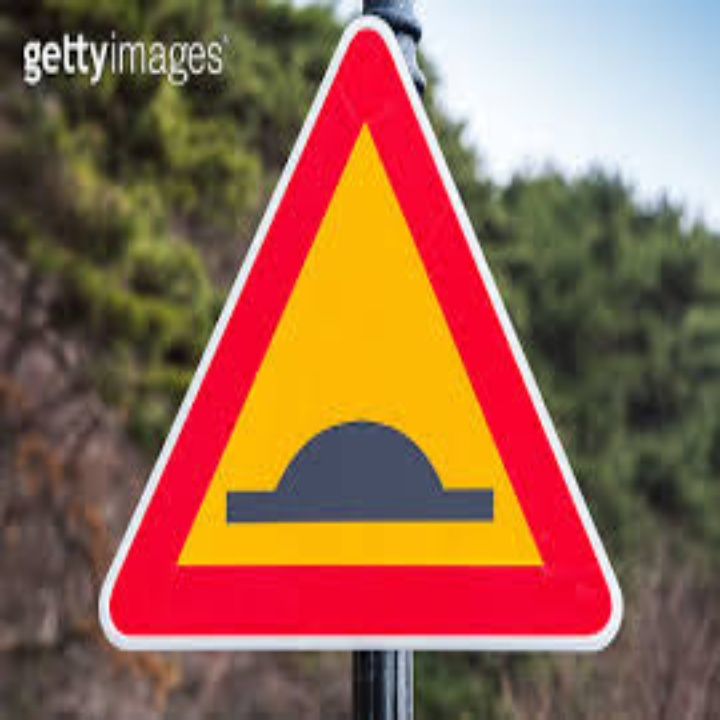bump: (210, 395, 506, 533)
